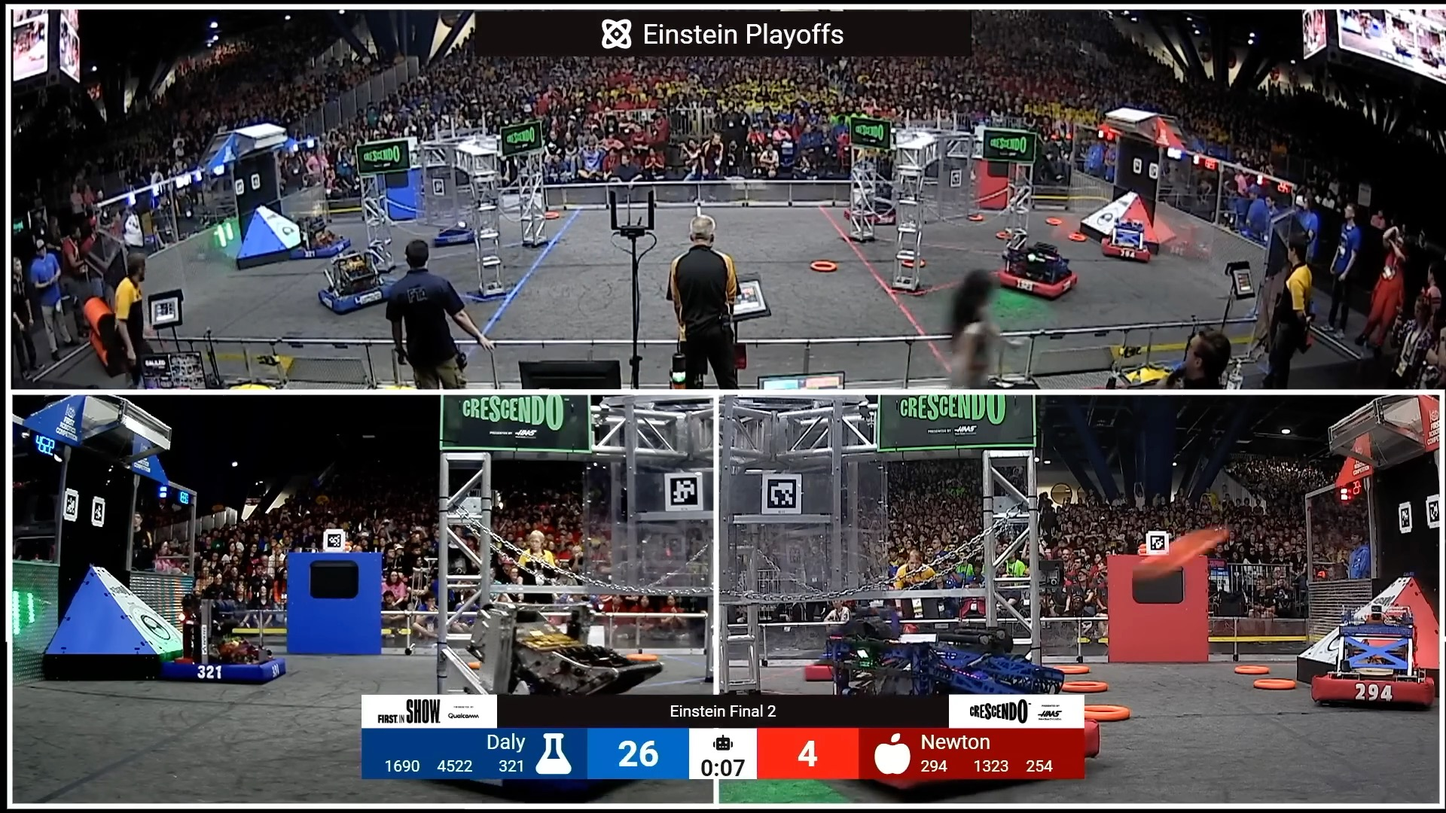bumpers: (175, 648, 299, 690), (989, 255, 1088, 301), (1308, 672, 1440, 706), (309, 278, 405, 319), (291, 242, 359, 263), (840, 208, 915, 227), (1100, 241, 1157, 262), (428, 230, 479, 250)
